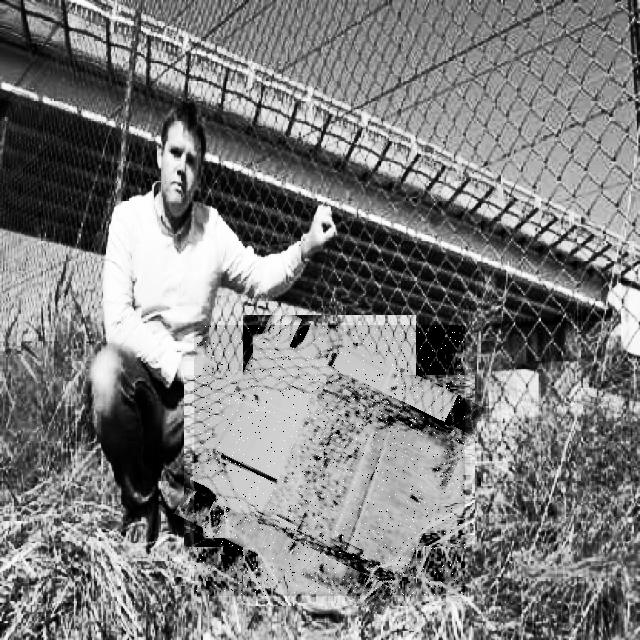anomaly-fence: (194, 325, 465, 596)
